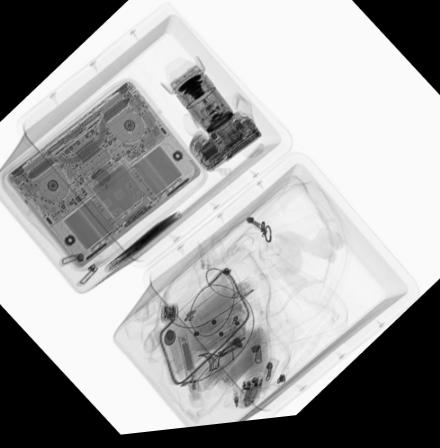Powerbank: (103, 216, 181, 275)
